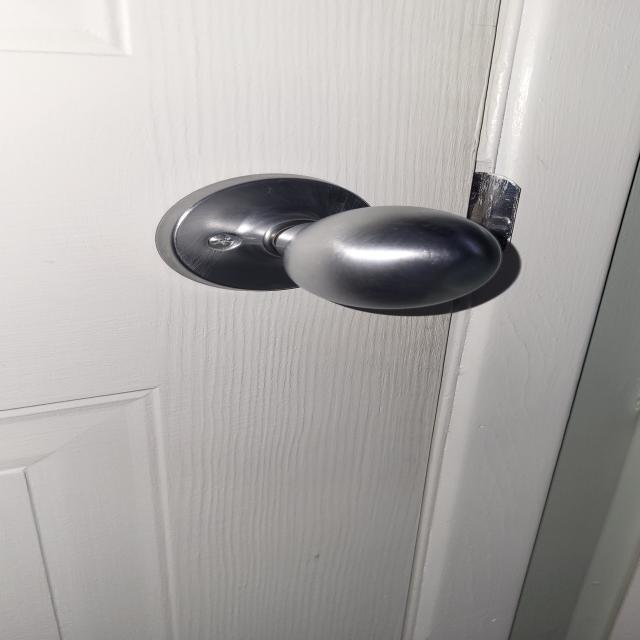door-knob: (157, 174, 501, 309)
